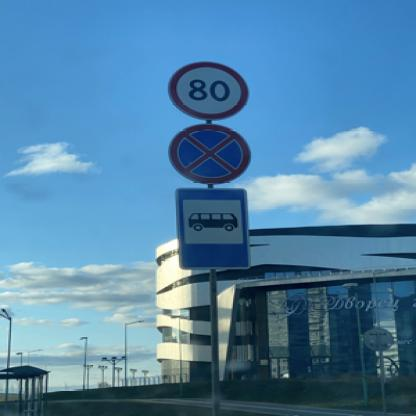Speed Limit 80: (169, 62, 248, 121)
